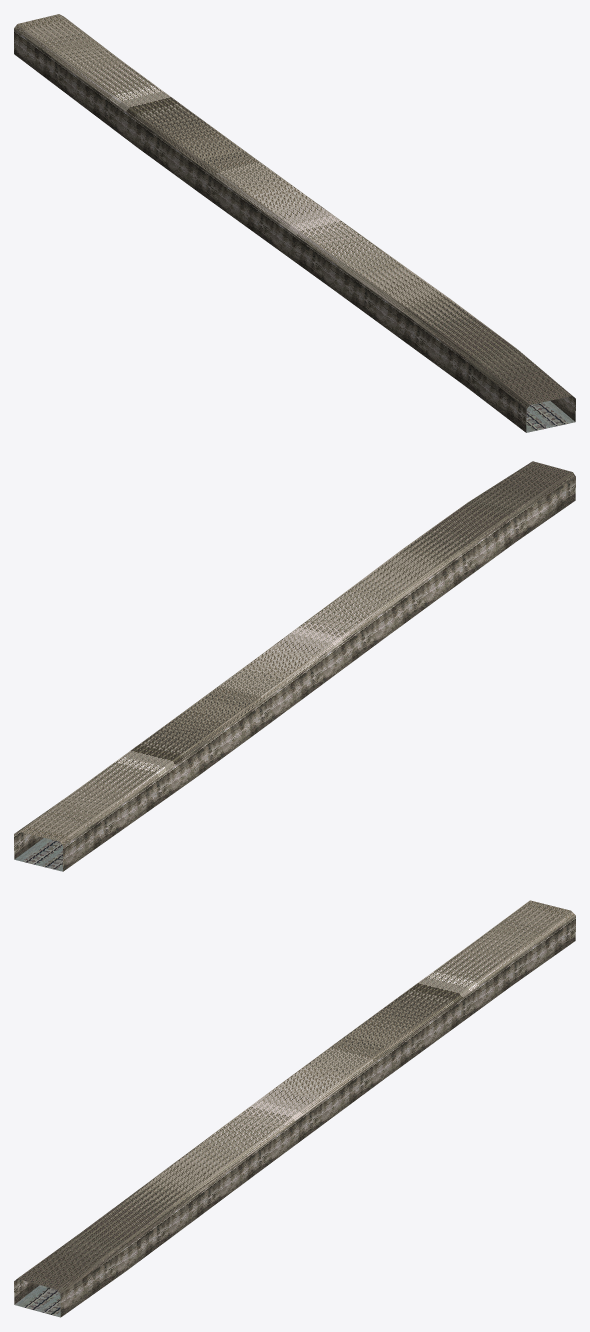
File: lodstunnel3a.obj
3 renders of one model, top to bottom at view 1: azimuth 30°, elevation 25°; view 2: azimuth 150°, elevation 25°; view 3: azimuth 330°, elevation 25°, orthographic.
Parts seen in each view (by area): view 1: LODstunnel3a; view 2: LODstunnel3a; view 3: LODstunnel3a.
Boxes of the visible parts, <box> form: LODstunnel3a: <box>14,14,575,432</box>; LODstunnel3a: <box>14,461,575,871</box>; LODstunnel3a: <box>14,900,575,1317</box>.
Bounding box in the file's own units: 12.67 × 6.98 × 205.
2 materials, 2 textured.
